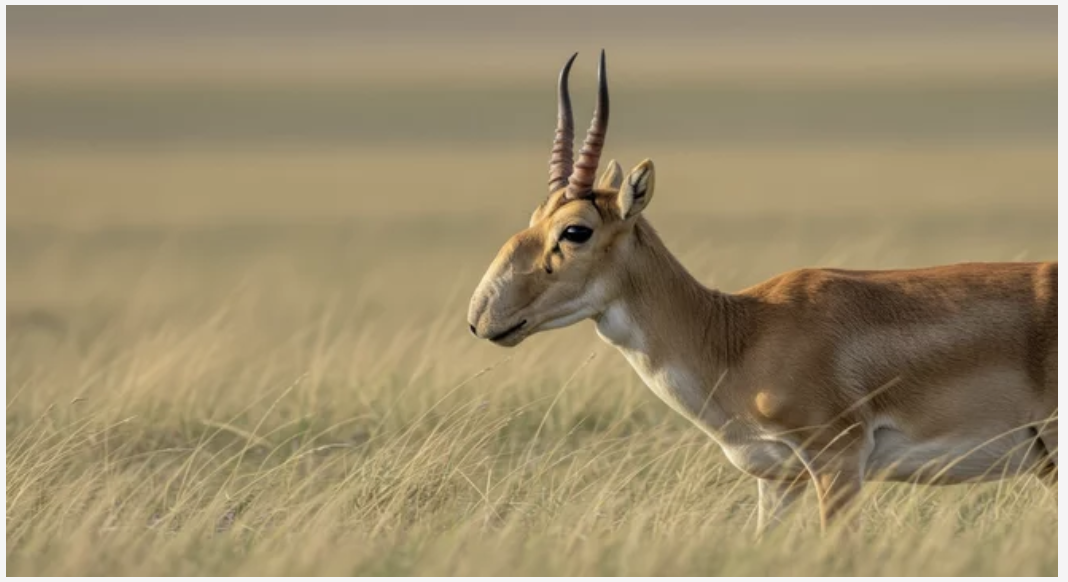saiga: (445, 41, 1067, 516)
